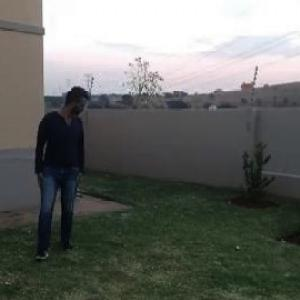follow: (26, 80, 86, 259)
